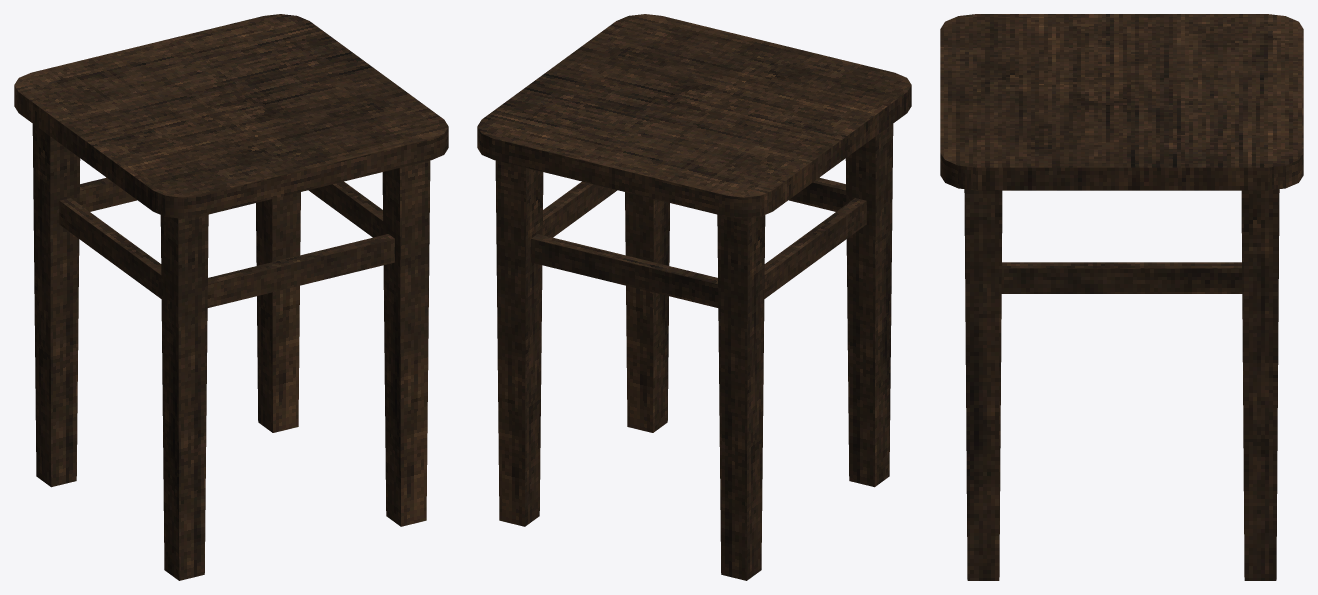
The model's file is chair_mp_2_1.glb.
The picture shows the model from 3 angles, left to right: view 1: azimuth 30°, elevation 25°; view 2: azimuth 150°, elevation 25°; view 3: azimuth 270°, elevation 25°; orthographic projection. The views are drawn at different scales.
Visible parts, largest first — view 1: chair_mp_2_1; view 2: chair_mp_2_1; view 3: chair_mp_2_1.
Part boxes in pixels (x1,y1,x2,y2): chair_mp_2_1: [14, 14, 448, 580]; chair_mp_2_1: [477, 14, 911, 580]; chair_mp_2_1: [940, 14, 1303, 580].
Bounding box in the file's own units: 0.4607 × 0.594 × 0.4607.
1 material, 1 textured.
